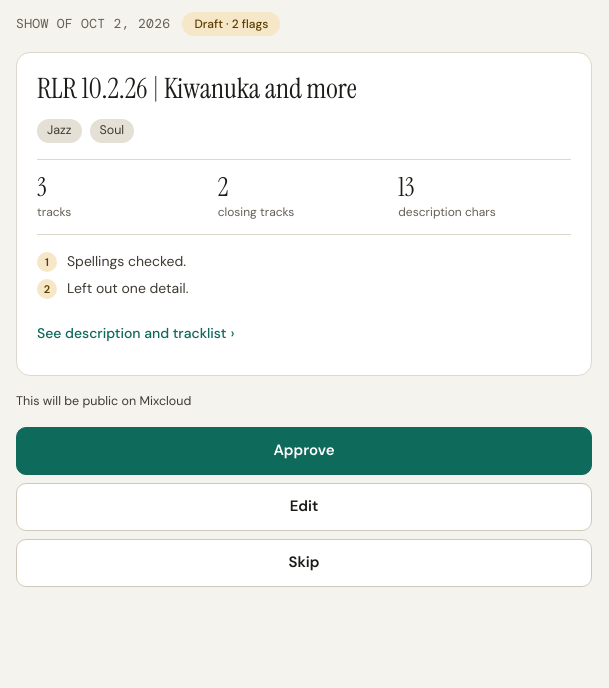
it: PackageDecision › stale approve shows reload message
The width and height of the screenshot is (609, 688).
Step 1. Click the button "Approve" → (304, 451), box [16,427,592,475]
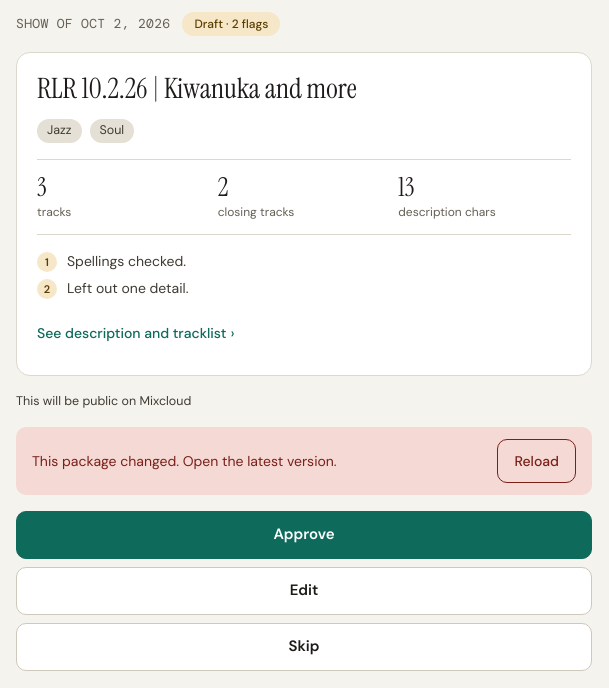
Expected: the text "This package changed. Open the latest version." is shown, [32,452,337,470]
Expected: the button "Reload" is shown, [497,439,576,483]
